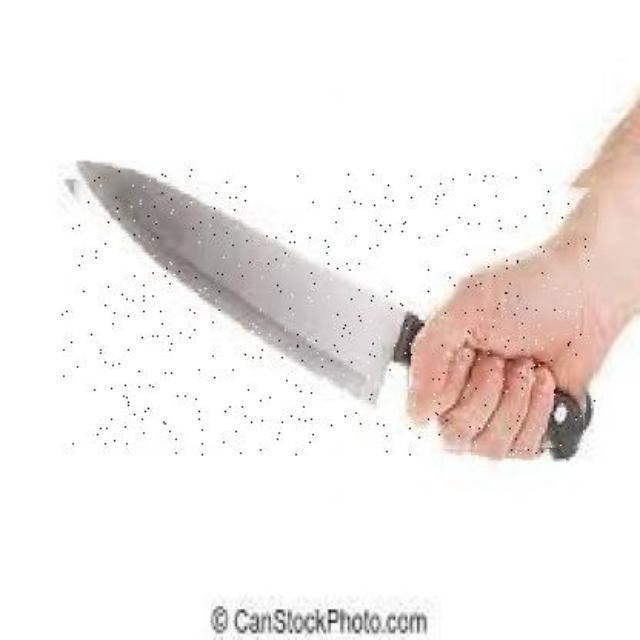Knife: (61, 169, 594, 455)
